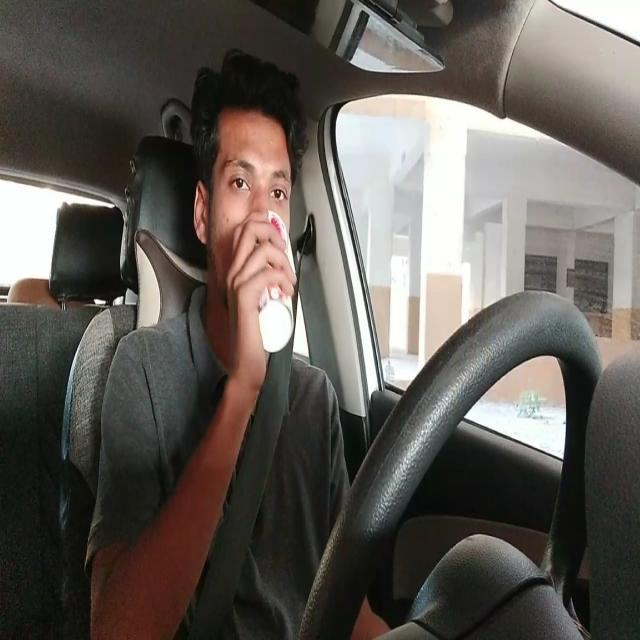Drinking: (193, 109, 297, 354)
